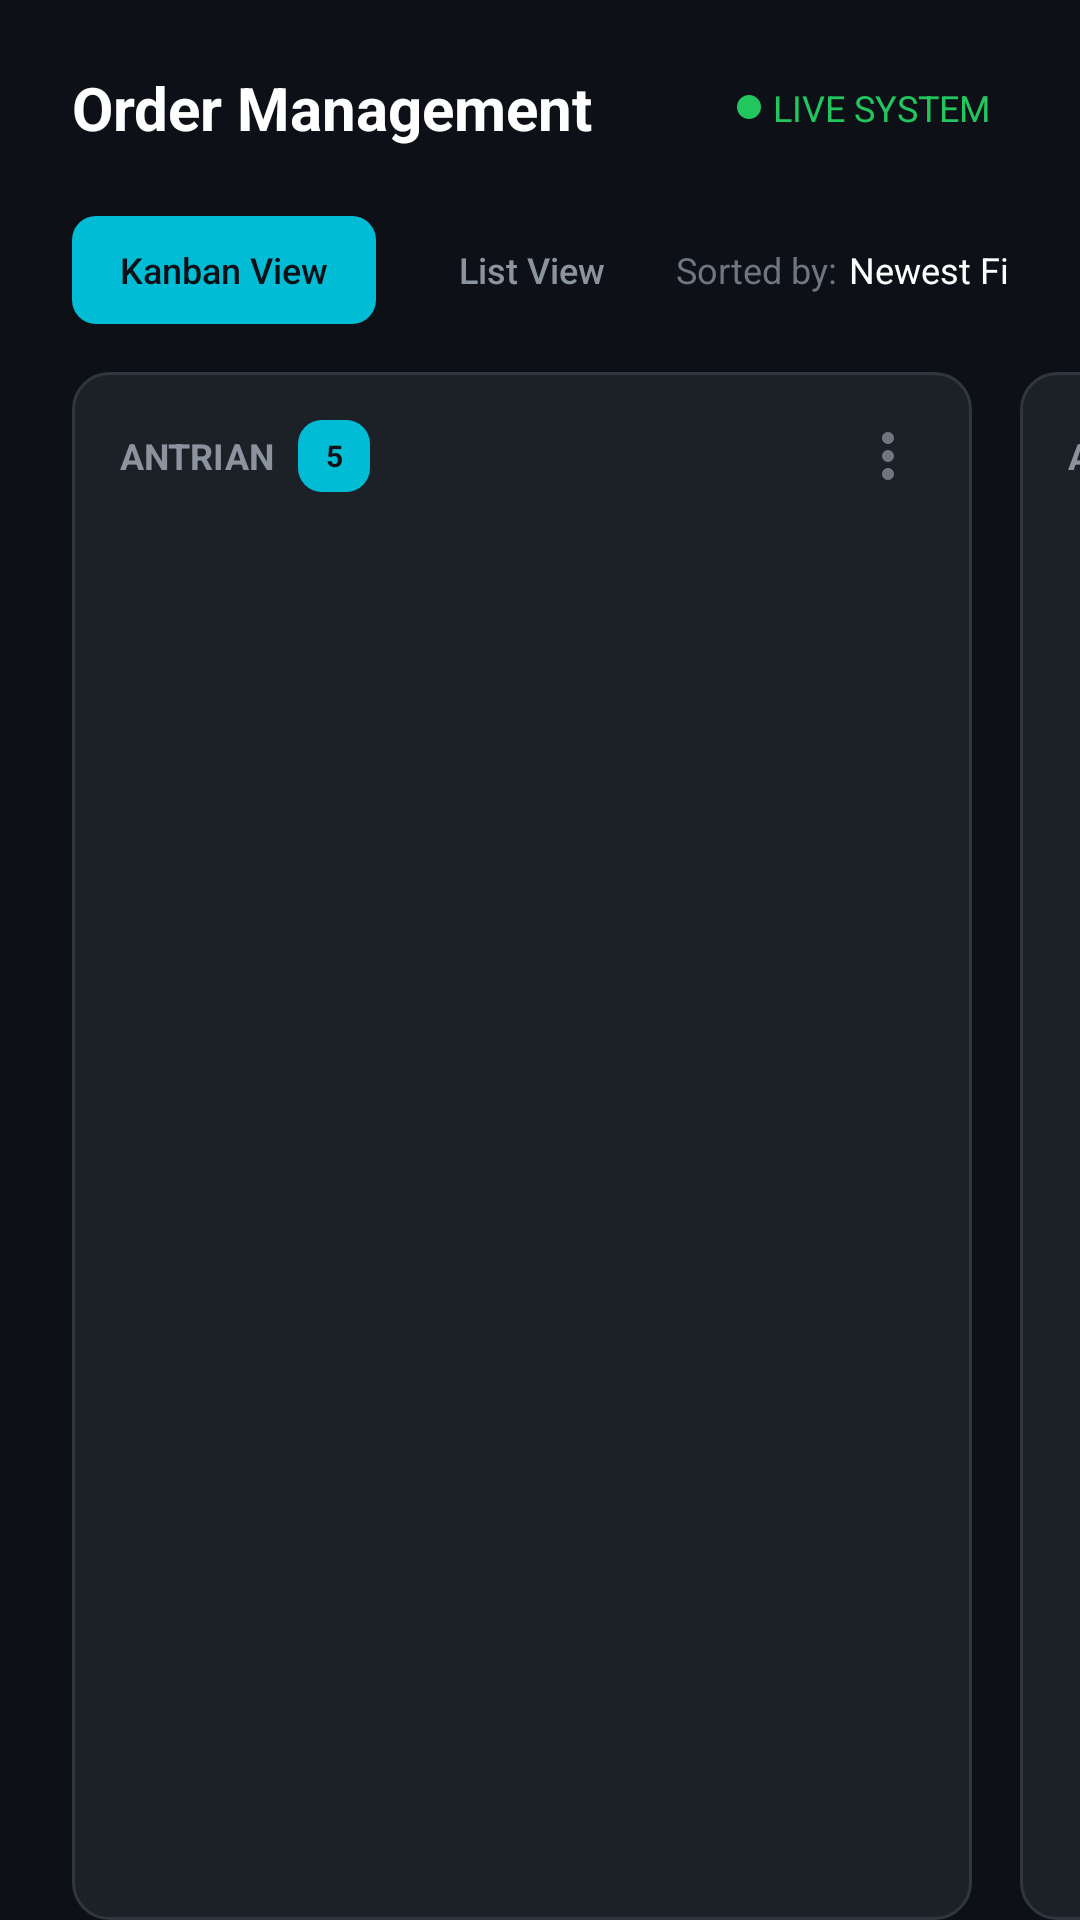

Locate icon controls on the screen. Image size 1080x1920, boxes as box(x1, y1, x2, y2).
Menu: box(882, 432, 894, 480)
